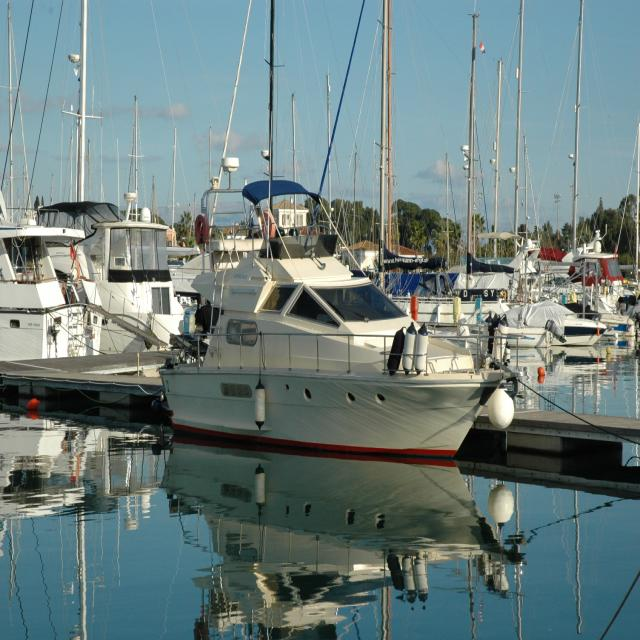houseboat: (158, 182, 491, 457)
